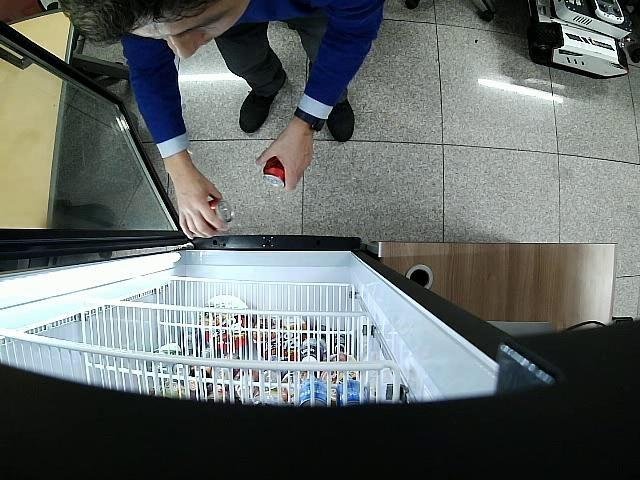11_cocaColaZero: (207, 198, 234, 228), (262, 156, 284, 189)
